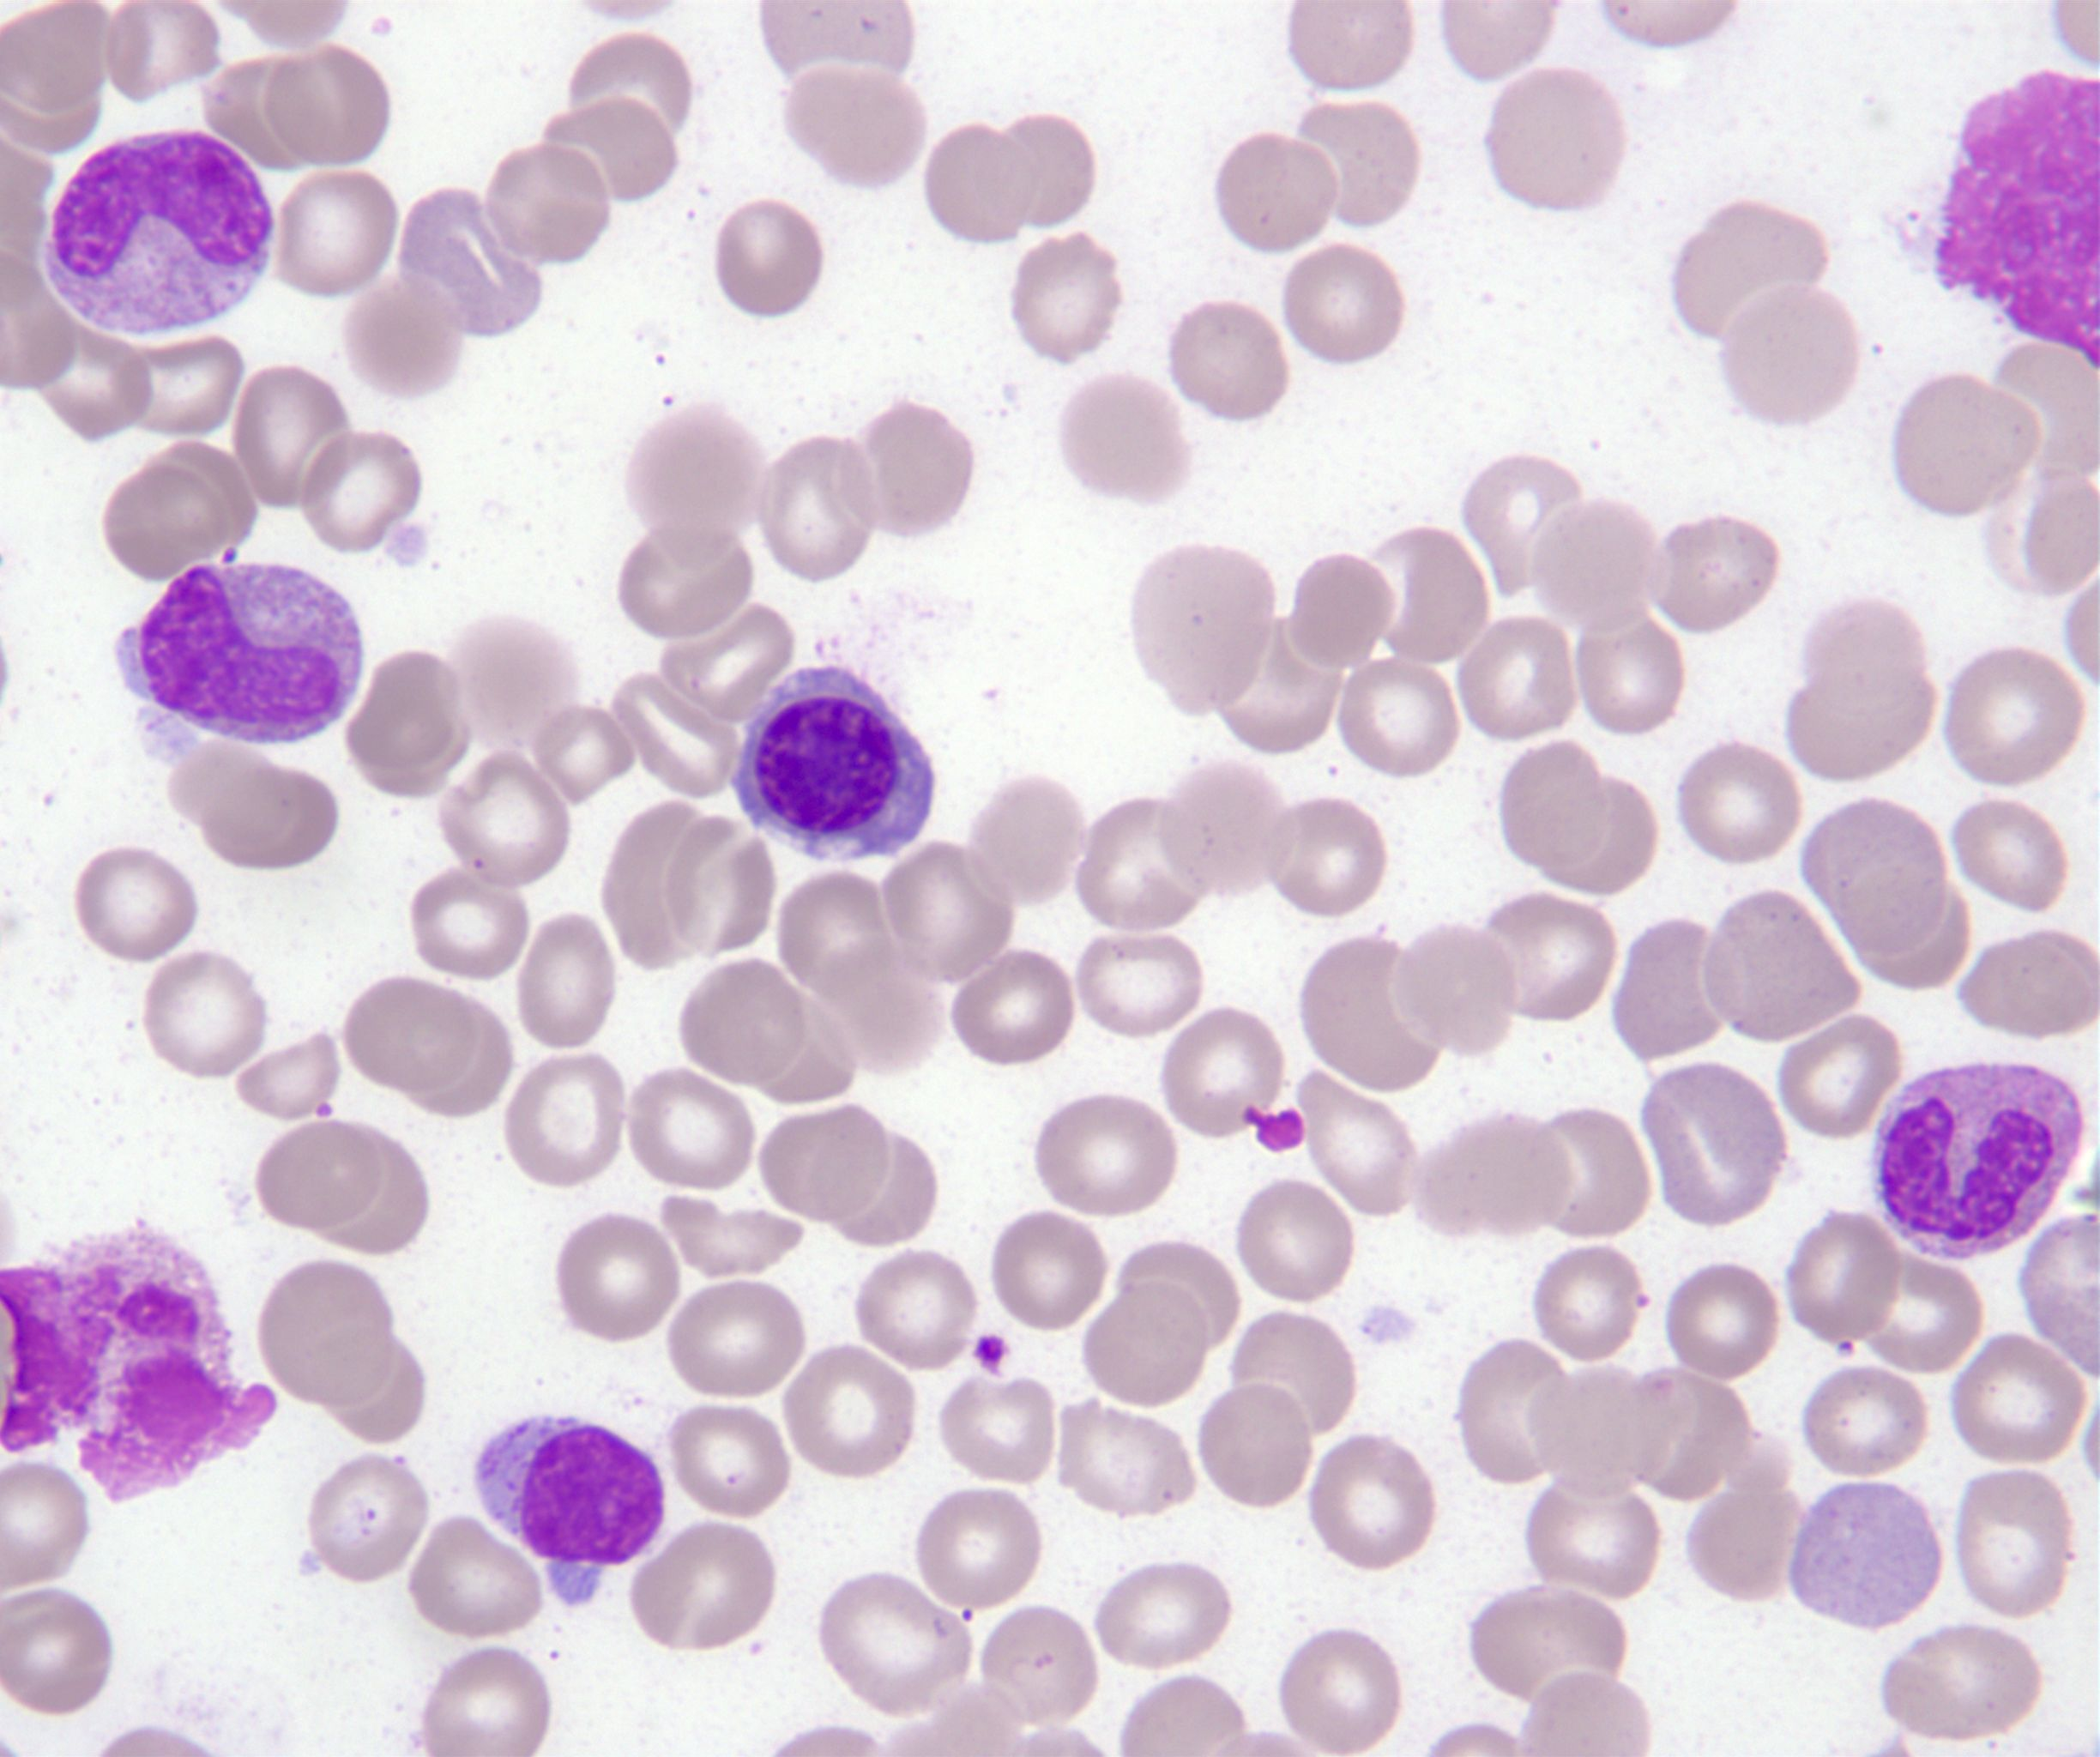23: (733, 668, 933, 860)
32: (474, 1417, 663, 1565)
4: (40, 131, 272, 340), (115, 564, 363, 743)
5: (1873, 1064, 2081, 1256)
x: (2, 1228, 274, 1502), (1933, 72, 2100, 361)
